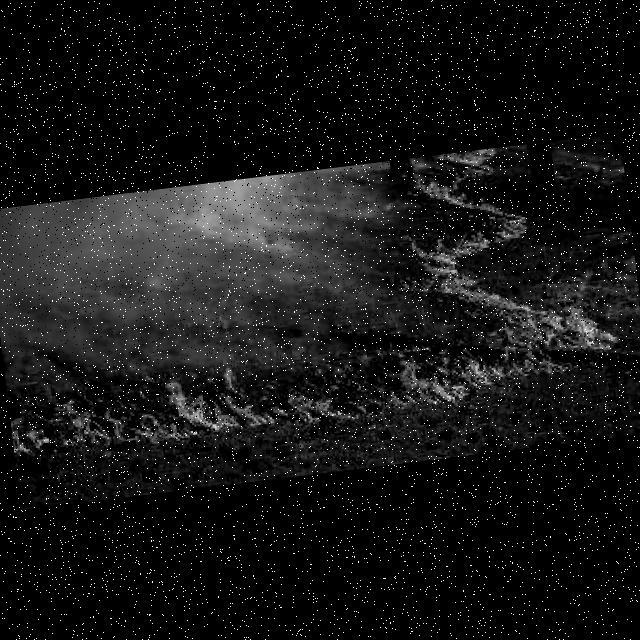Fire: (375, 141, 553, 331)
